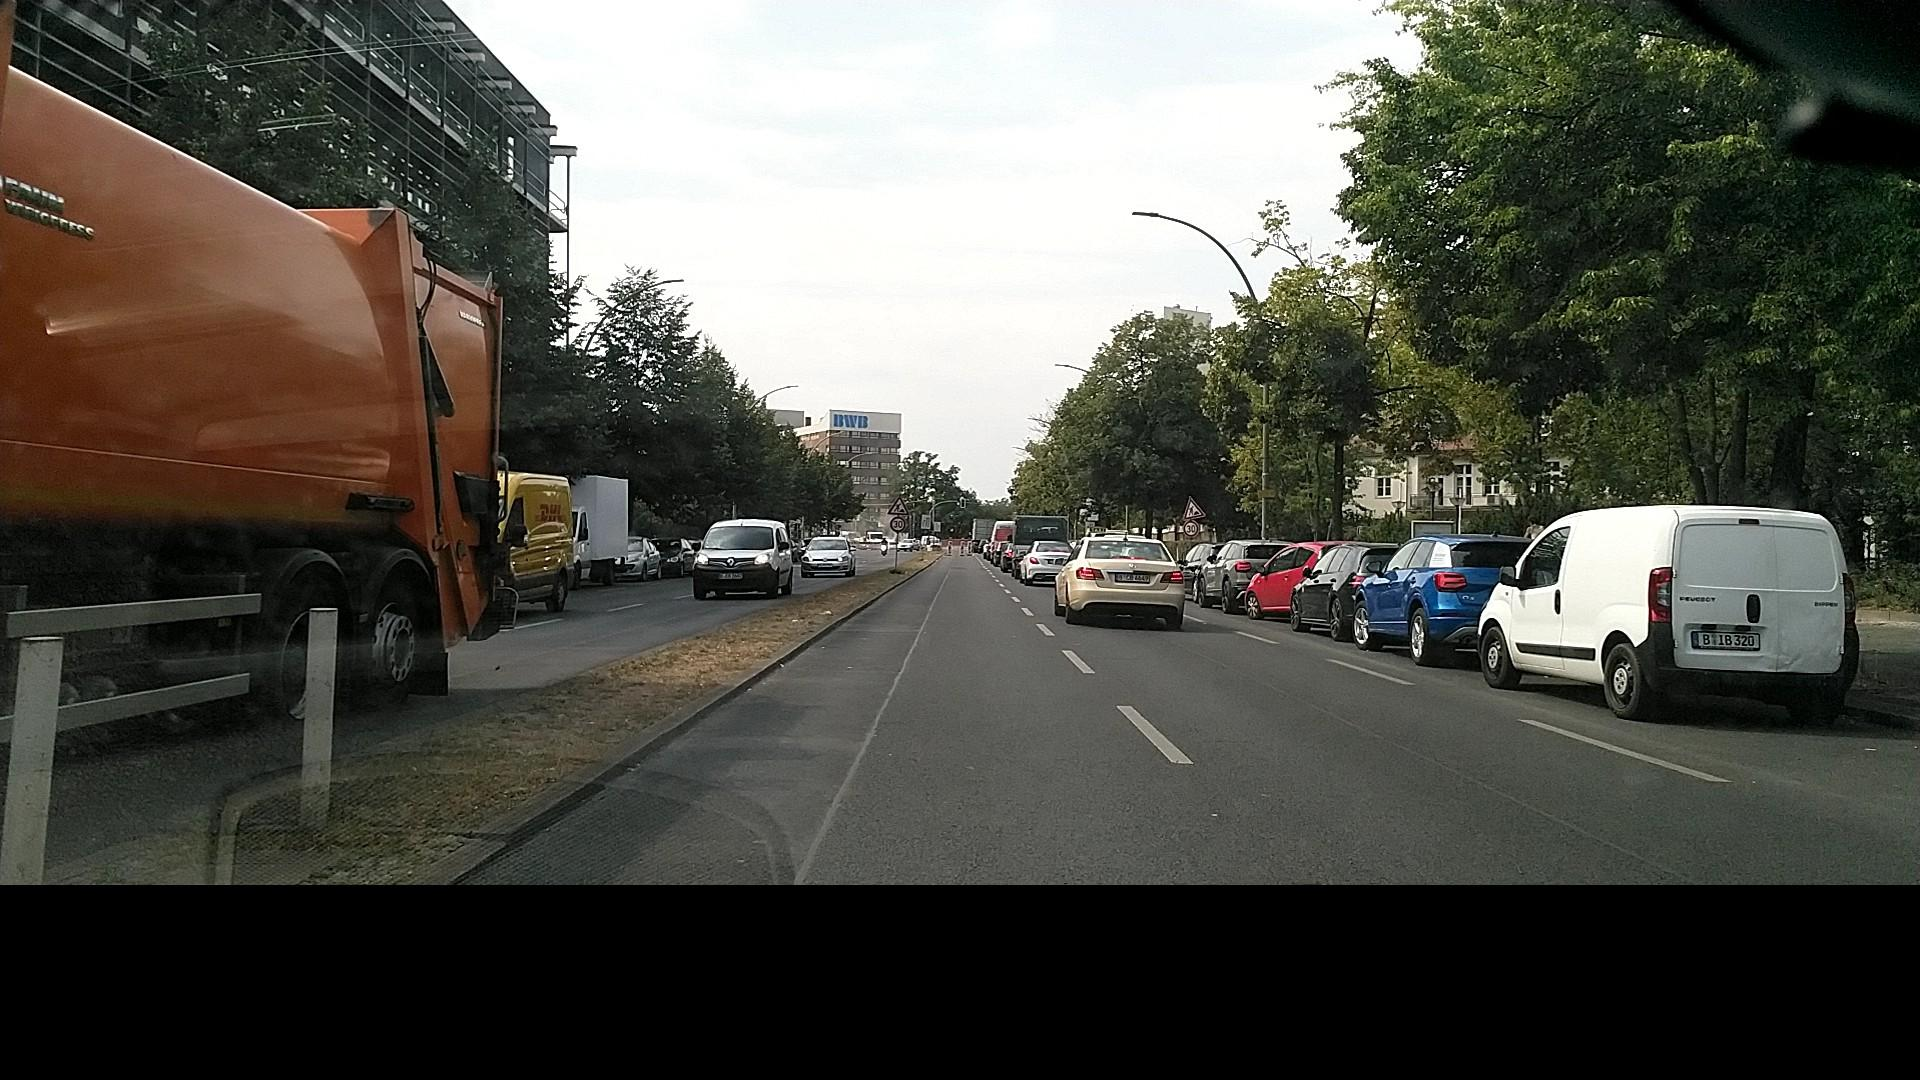Vehicle registration plate: (1691, 631, 1760, 650), (1115, 573, 1150, 583), (716, 572, 743, 580), (816, 563, 833, 568)
